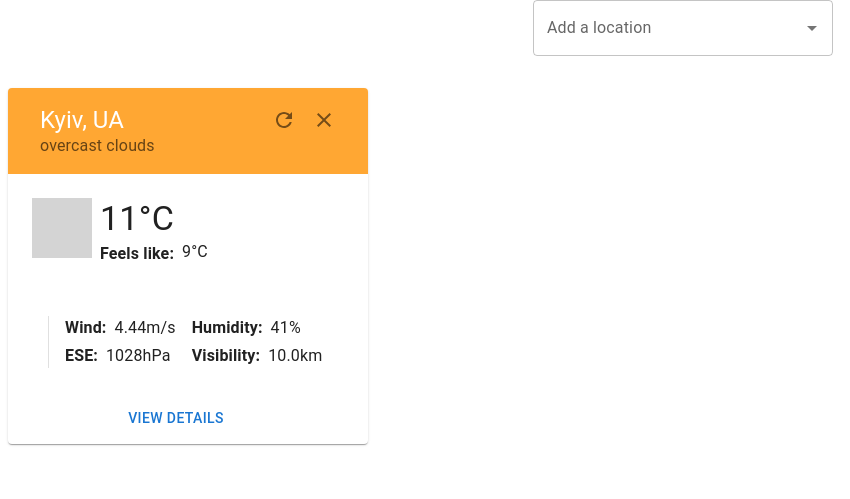
Scenario: CityCardsGridPage › should remove city card from the grid when click clear button
Click the button named "remove".
click(324, 120)  # box [304, 100, 344, 140]
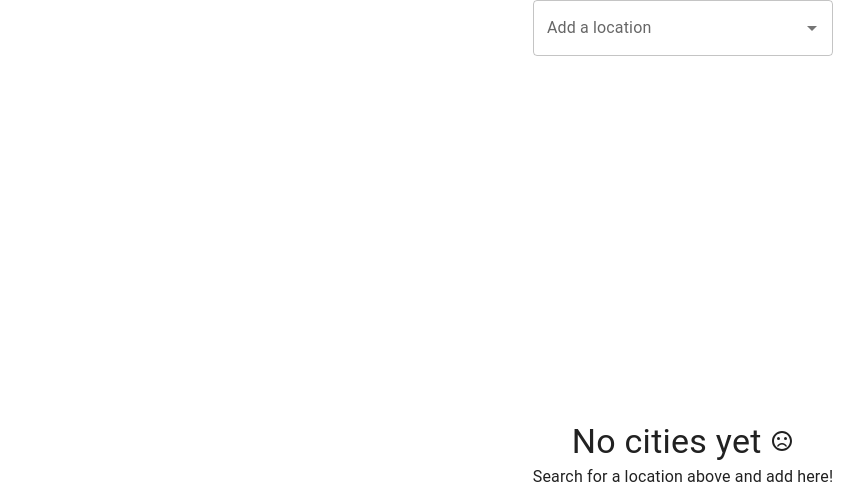
Check: the heading "No cities yet" is shown, box [572, 421, 794, 463]
